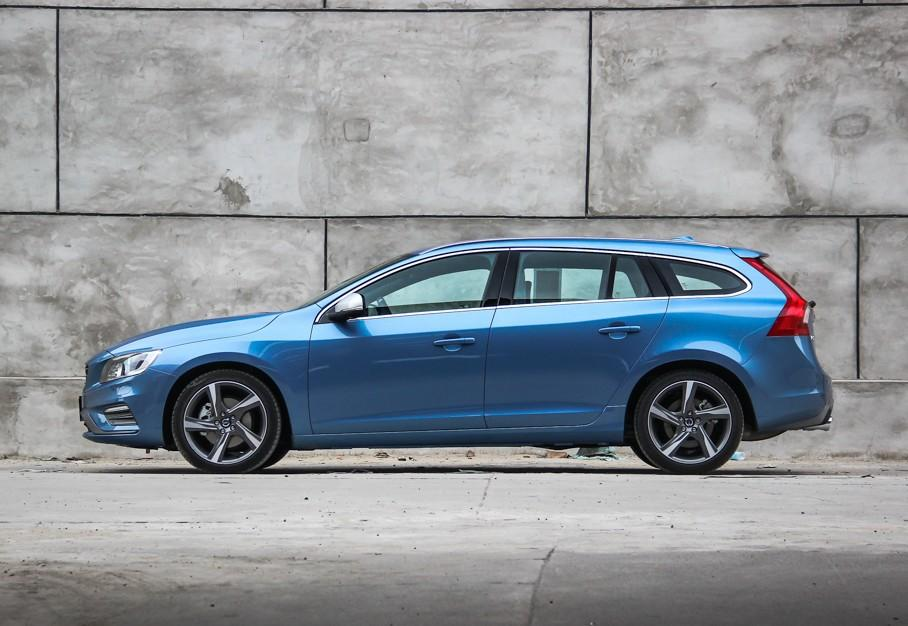Wagon: (80, 237, 835, 474)
